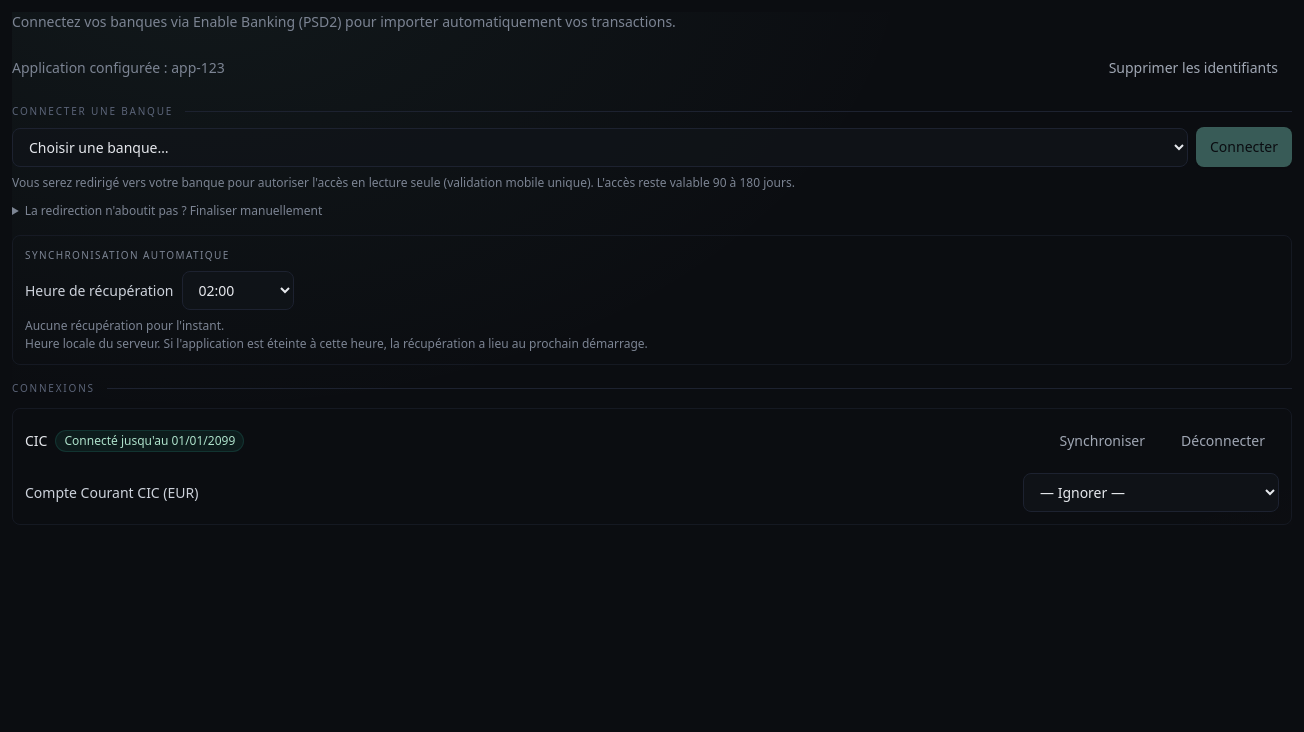
Test case: SettingsBankSync › lists the deduplicated rows after a sync
This screenshot has width=1304, height=732.
Click the button "Synchroniser" at (1102, 441), box left=1046, top=421, right=1159, bottom=461
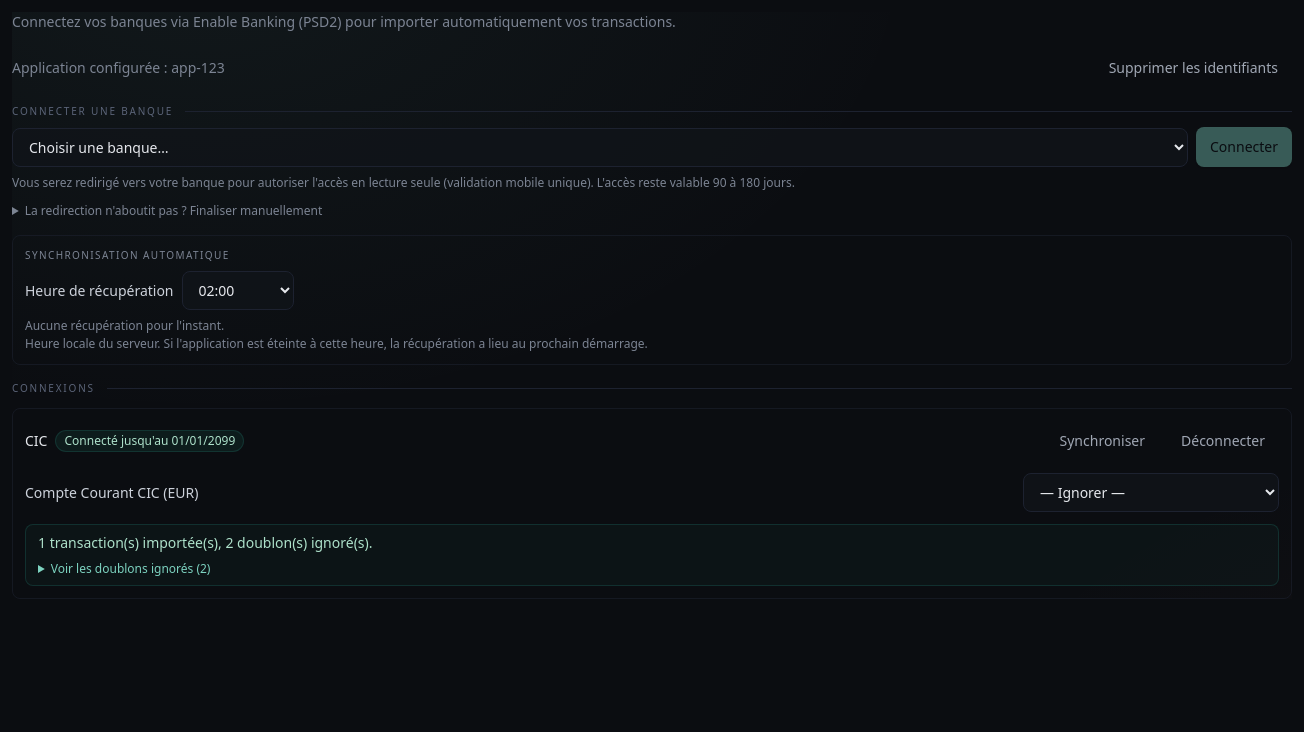
Click the heading "Voir les doublons ignorés (2)" at (131, 568), box left=51, top=560, right=210, bottom=577
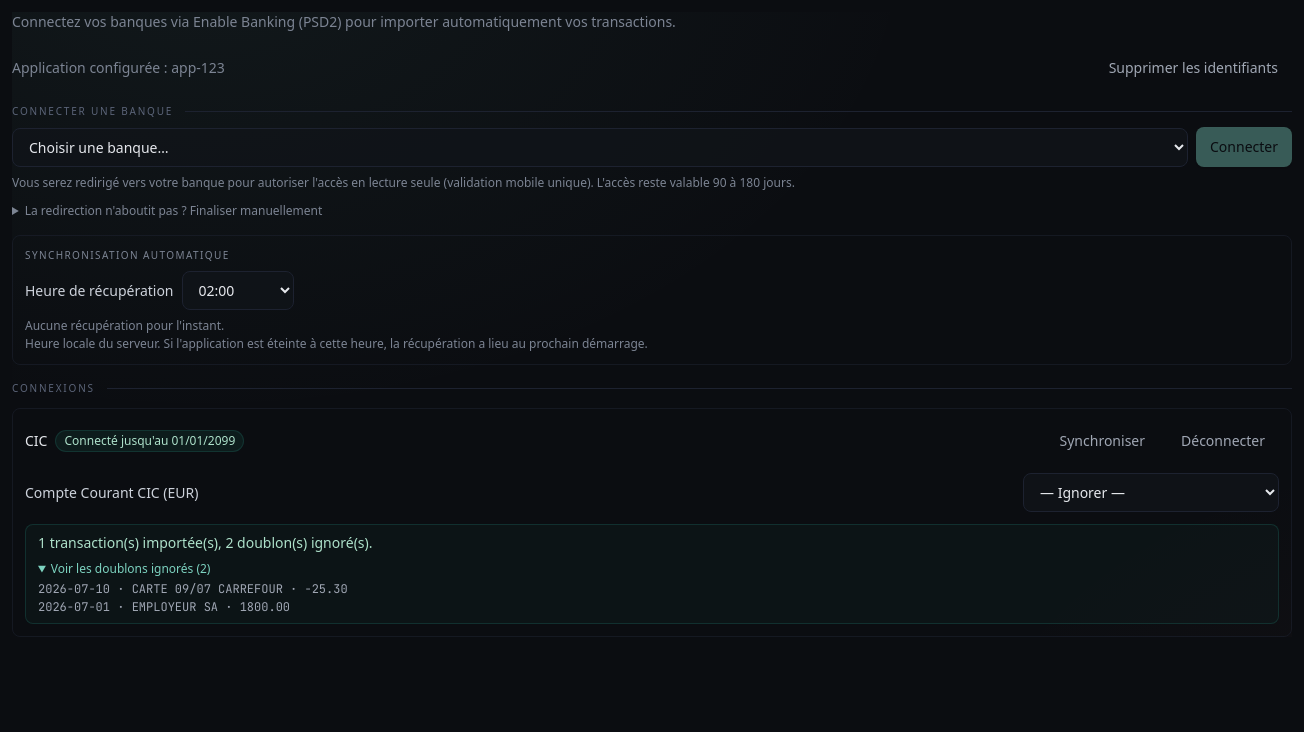
Now the list item "2026-07-10 · CARTE 09/07 CARREFOUR · -25.30" is shown, box left=38, top=581, right=348, bottom=597
Now the list item "2026-07-01 · EMPLOYEUR SA · 1800.00" is shown, box left=38, top=599, right=290, bottom=615
